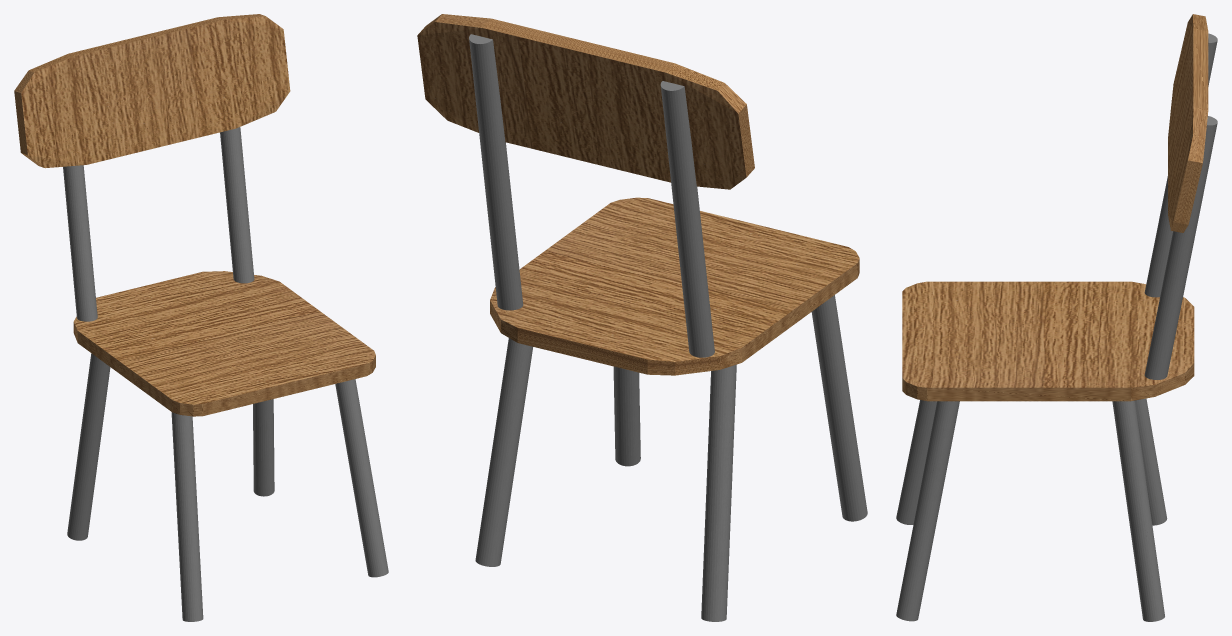
The model's file is Chair.fbx.
The picture shows the model from 3 angles, left to right: view 1: azimuth 30°, elevation 25°; view 2: azimuth 150°, elevation 25°; view 3: azimuth 270°, elevation 25°; orthographic projection. The views are drawn at different scales.
Parts seen in each view (by area): view 1: Cube.001, Cube, Cylinder, Cylinder.001, Cylinder.002, Cylinder.004, Cylinder.005, Cylinder.003; view 2: Cube, Cube.001, Cylinder.004, Cylinder.005, Cylinder.002, Cylinder.003, Cylinder, Cylinder.001; view 3: Cube, Cube.001, Cylinder.001, Cylinder.003, Cylinder.005, Cylinder, Cylinder.002, Cylinder.004.
Boxes of the visible parts, <box> form: Cube.001: <box>14,14,290,168</box>; Cube: <box>73,271,375,416</box>; Cylinder: <box>171,412,203,621</box>; Cylinder.001: <box>335,379,388,577</box>; Cylinder.002: <box>67,353,110,540</box>; Cylinder.004: <box>63,165,97,321</box>; Cylinder.005: <box>220,127,254,283</box>; Cylinder.003: <box>253,399,274,496</box>; Cube: <box>490,197,859,375</box>; Cube.001: <box>417,14,754,189</box>; Cylinder.004: <box>660,81,714,357</box>; Cylinder.005: <box>469,34,523,310</box>; Cylinder.002: <box>701,364,736,621</box>; Cylinder.003: <box>475,338,532,566</box>; Cylinder: <box>811,295,867,521</box>; Cylinder.001: <box>613,366,640,466</box>; Cube: <box>902,281,1194,401</box>; Cube.001: <box>1168,14,1208,232</box>; Cylinder.001: <box>896,401,959,621</box>; Cylinder.003: <box>1112,400,1164,621</box>; Cylinder.005: <box>1144,116,1217,379</box>; Cylinder: <box>896,400,936,524</box>; Cylinder.002: <box>1135,398,1167,525</box>; Cylinder.004: <box>1144,33,1217,297</box>.
Size of the model in its own units: 235 by 398 by 232.
